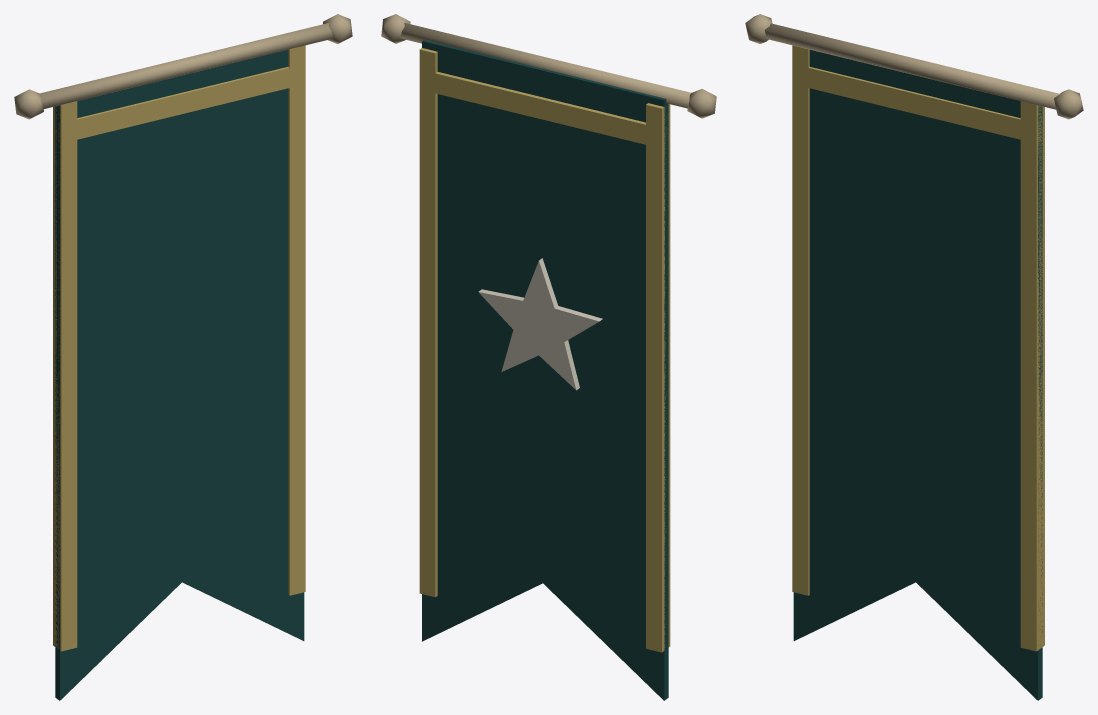
The model's file is ray_gunner_banner_v0.glb.
3 views of the same model, side by side, from view 1: azimuth 30°, elevation 25°; view 2: azimuth 150°, elevation 25°; view 3: azimuth 330°, elevation 25° (orthographic).
Visible parts, largest first — view 1: ray_gunner_banner_v0; view 2: ray_gunner_banner_v0; view 3: ray_gunner_banner_v0.
Part boxes in pixels (bbox=[...]): ray_gunner_banner_v0: bbox=[14, 14, 352, 700]; ray_gunner_banner_v0: bbox=[381, 14, 716, 700]; ray_gunner_banner_v0: bbox=[745, 14, 1083, 700].
Bounding box in the file's own units: 1.04 × 1.84 × 0.0933.
